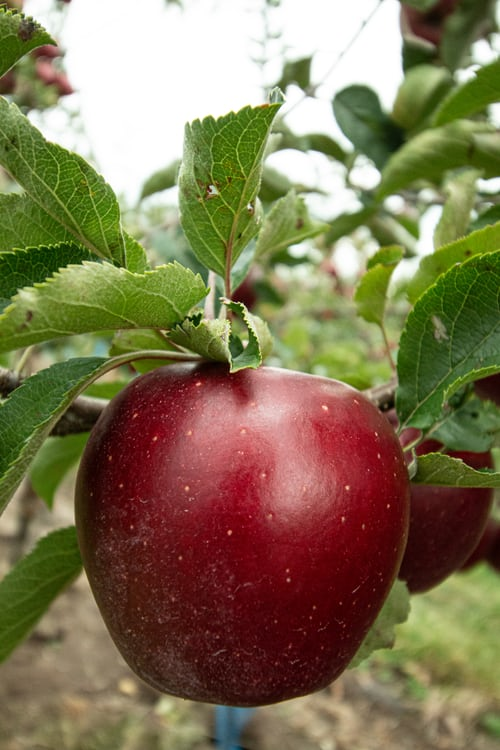apple: (71, 366, 412, 707)
